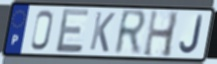0: (30, 9, 55, 51)
E: (54, 7, 91, 55)
H: (142, 9, 181, 59)
J: (178, 14, 205, 56)
K: (87, 10, 117, 54)
R: (113, 8, 149, 57)
